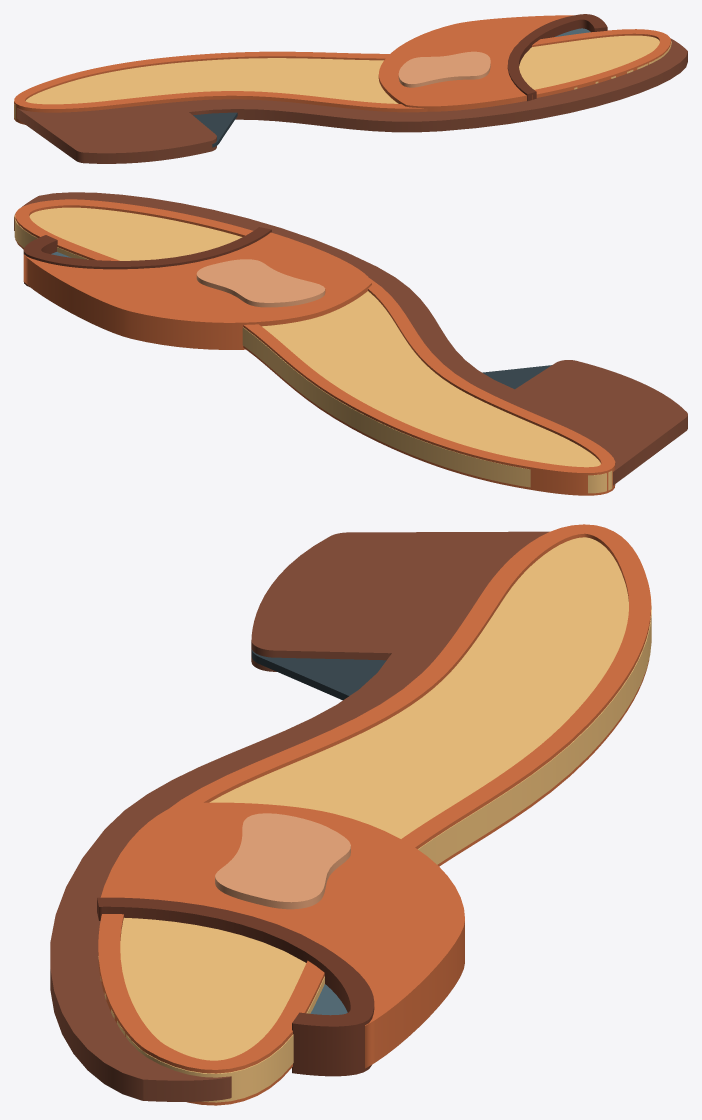
File: emoji_u1f461.glb
3 views of the same model, one above another, from view 1: azimuth 30°, elevation 25°; view 2: azimuth 150°, elevation 25°; view 3: azimuth 270°, elevation 25° (orthographic). The views are drawn at different scales.
Parts seen in each view (by area): view 1: emoji_u1f461; view 2: emoji_u1f461; view 3: emoji_u1f461.
Boxes of the visible parts, bbox=[...] form: emoji_u1f461: bbox=[14, 14, 687, 163]; emoji_u1f461: bbox=[14, 192, 687, 495]; emoji_u1f461: bbox=[50, 524, 651, 1105].
Size of the model in its own units: 0.0331 by 0.0016 by 0.0153.
